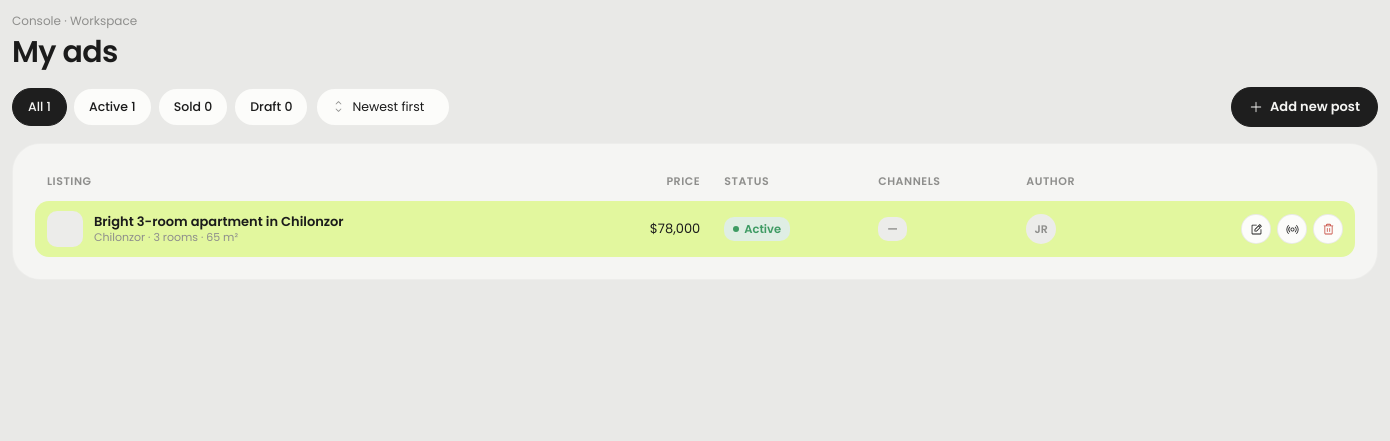
Test case: MyAdsScreen — populated › shows a filtered-empty message (not the whole-screen EmptyState) when a stage has zero matches
The image size is (1390, 441).
Click the button "Sold 0" at x=193, y=107, box [158,88,228,126]
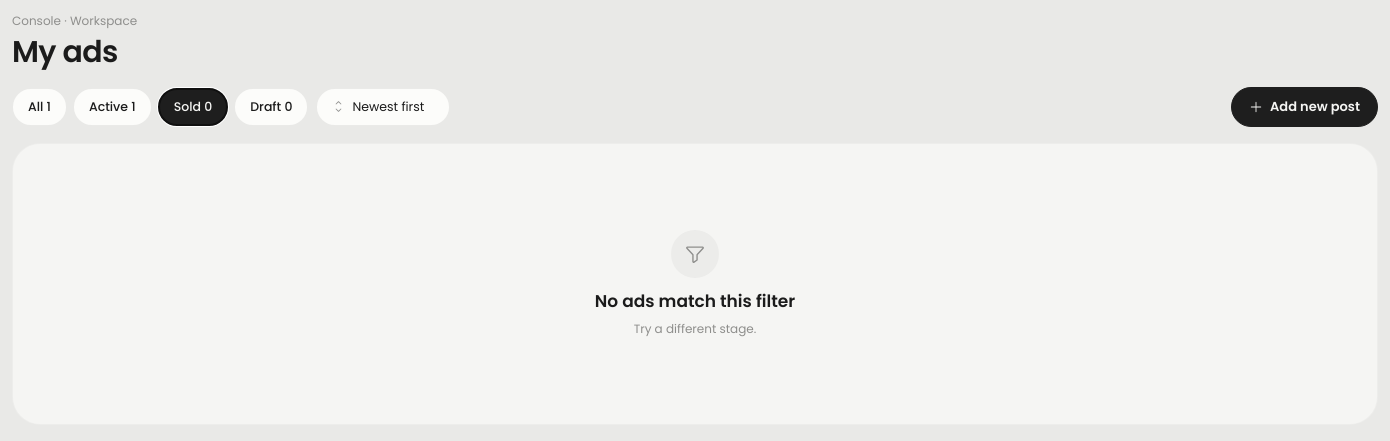
Check: the button "Add new post" is shown, box [1231,86,1378,127]
Check: the text "No ads match this filter" is shown, box [595,290,795,312]
